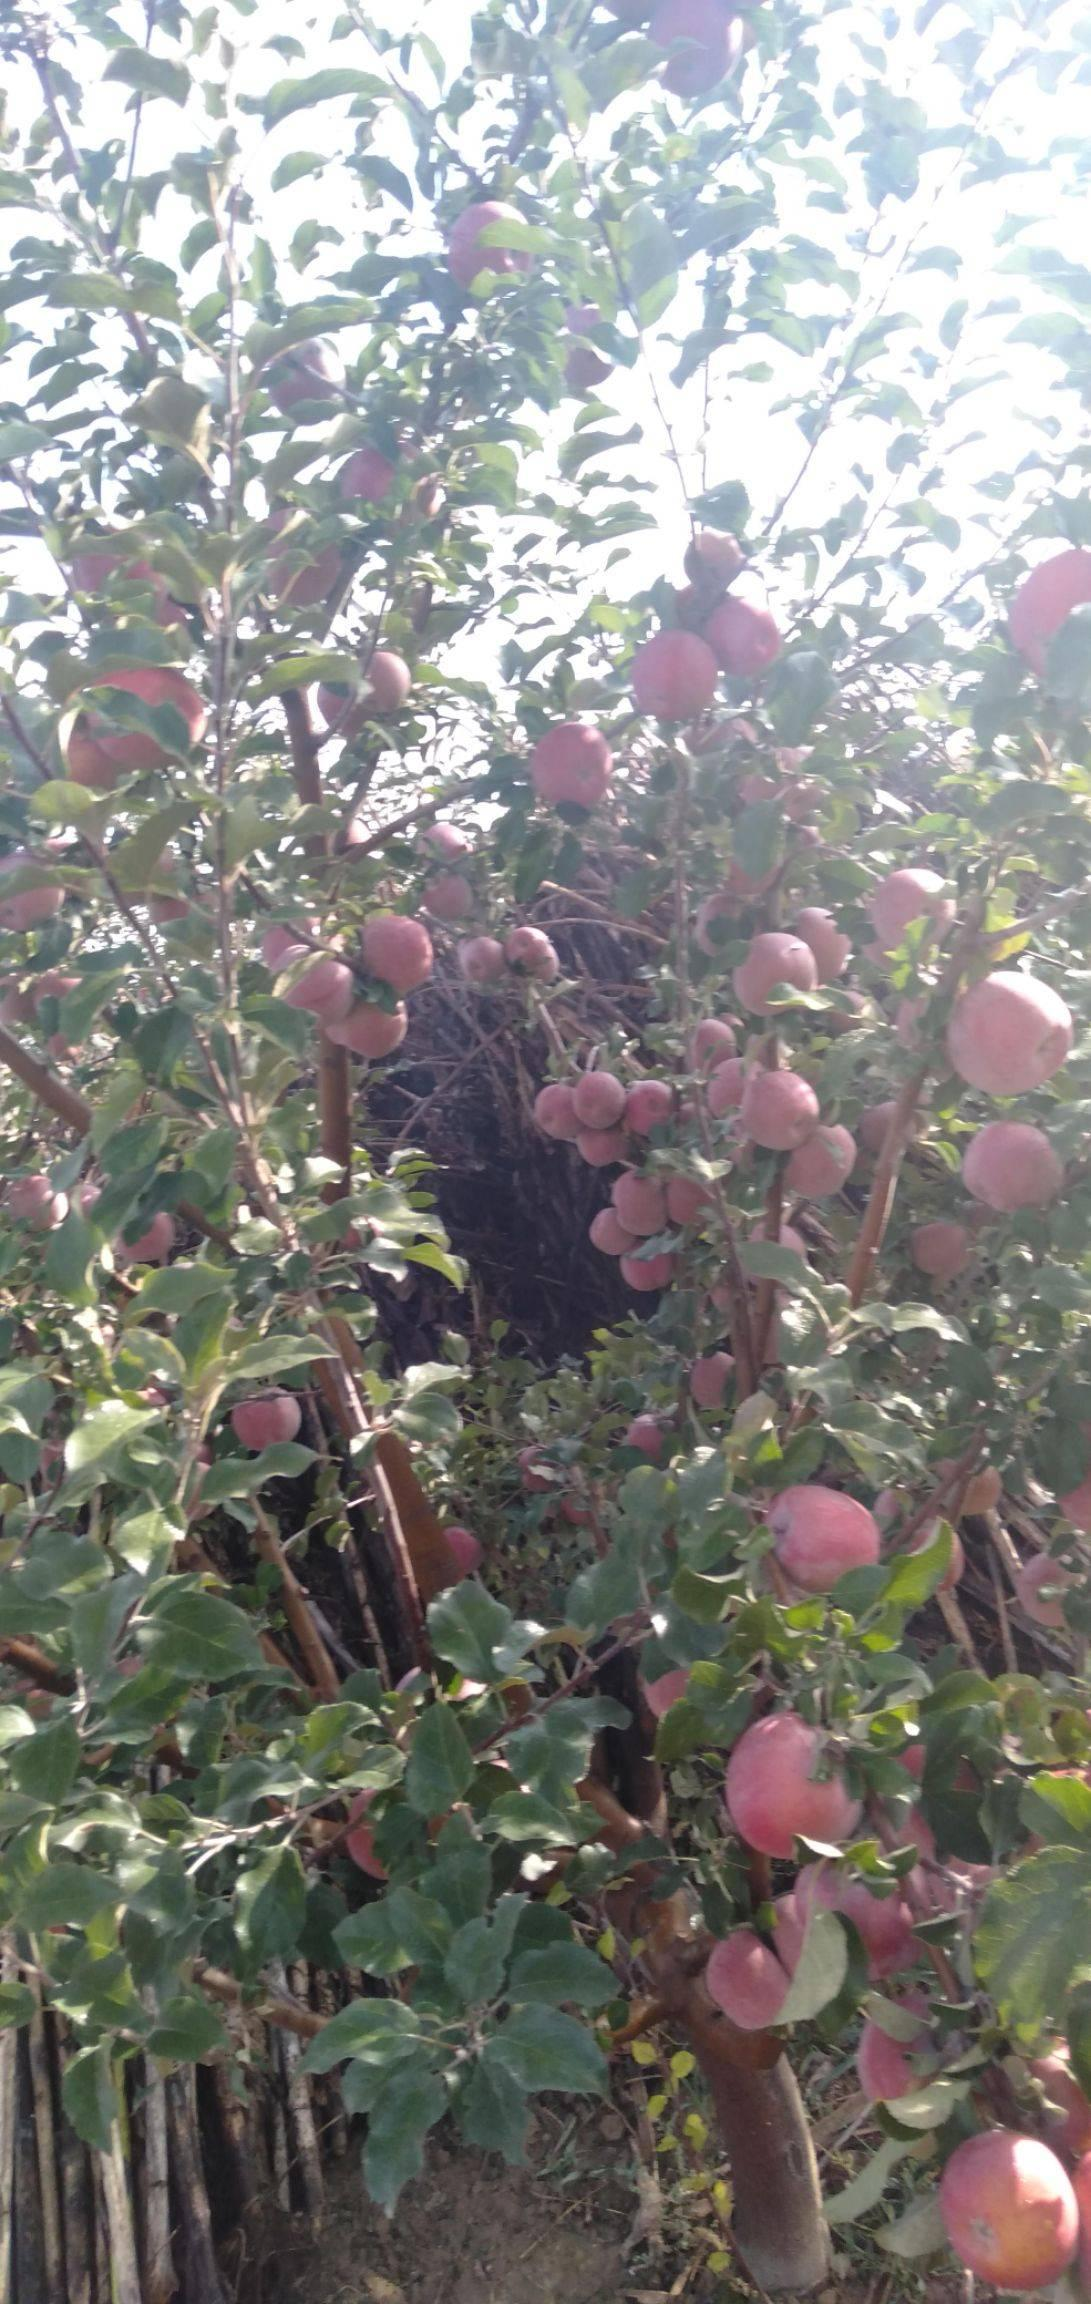apple: (937, 2132, 1076, 2289), (726, 1718, 865, 1853), (59, 672, 204, 791), (709, 1900, 837, 2031), (956, 970, 1070, 1096), (800, 1848, 919, 1960), (756, 1488, 876, 1593), (962, 1123, 1062, 1217), (441, 197, 534, 289), (629, 630, 718, 721), (528, 723, 612, 816), (740, 1067, 820, 1161), (319, 652, 409, 736), (732, 932, 815, 1017), (701, 600, 784, 680), (778, 1117, 856, 1200), (412, 849, 490, 933), (360, 914, 431, 993), (232, 1386, 307, 1455), (282, 960, 351, 1029), (331, 993, 404, 1058), (787, 912, 845, 986), (570, 1068, 623, 1130), (501, 929, 559, 982), (419, 874, 473, 929), (415, 824, 471, 874), (529, 1084, 579, 1139), (615, 1178, 665, 1231), (628, 1081, 676, 1136), (456, 935, 503, 989)
